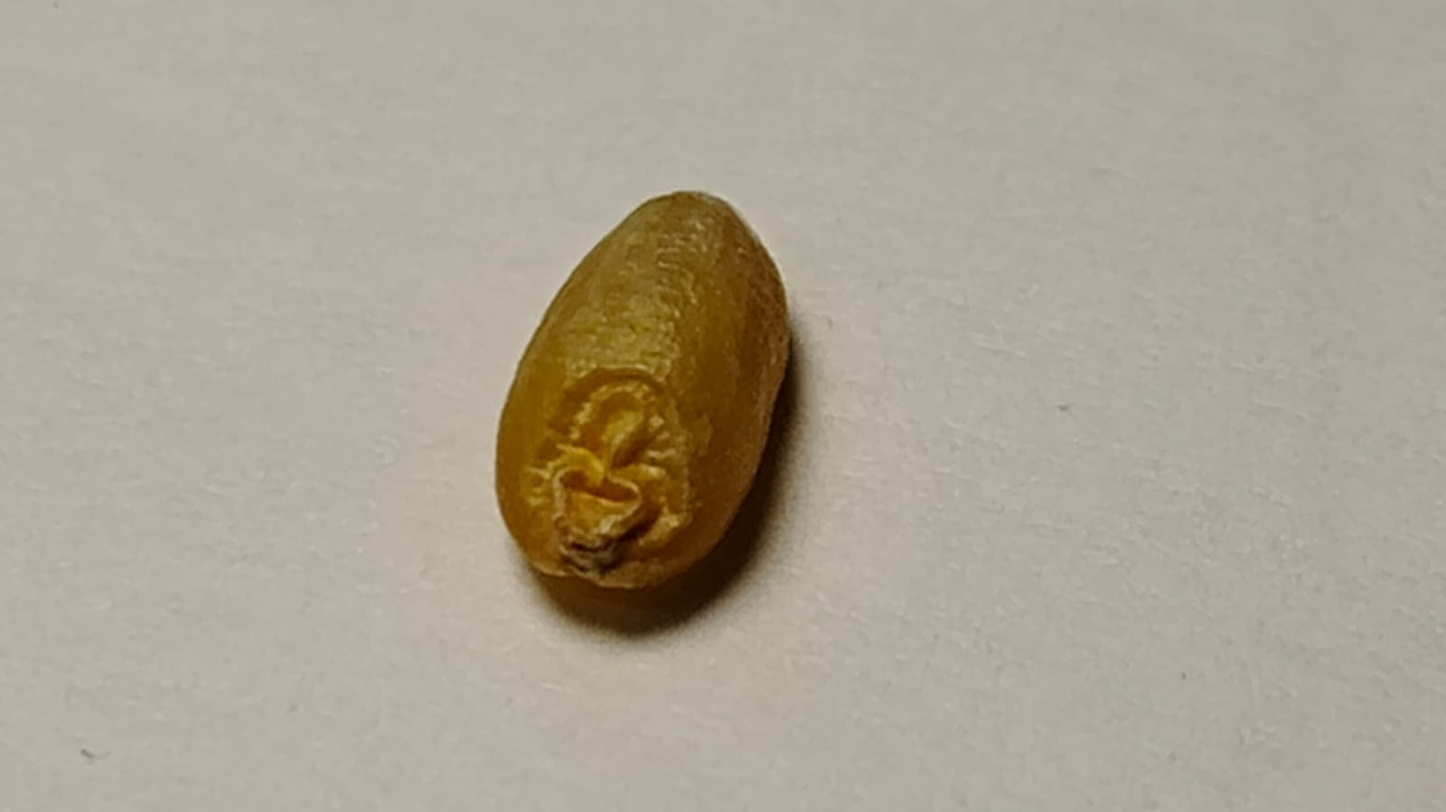healthy: (495, 192, 789, 587)
